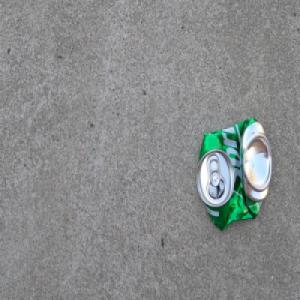SodaCan: (194, 116, 272, 232)
